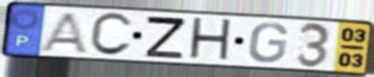3: (295, 21, 333, 70)
A: (37, 11, 92, 56)
C: (87, 11, 135, 59)
G: (247, 21, 291, 65)
H: (187, 16, 235, 64)
Z: (144, 15, 188, 61)
